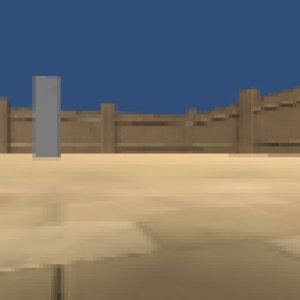wall: (33, 73, 63, 158)
